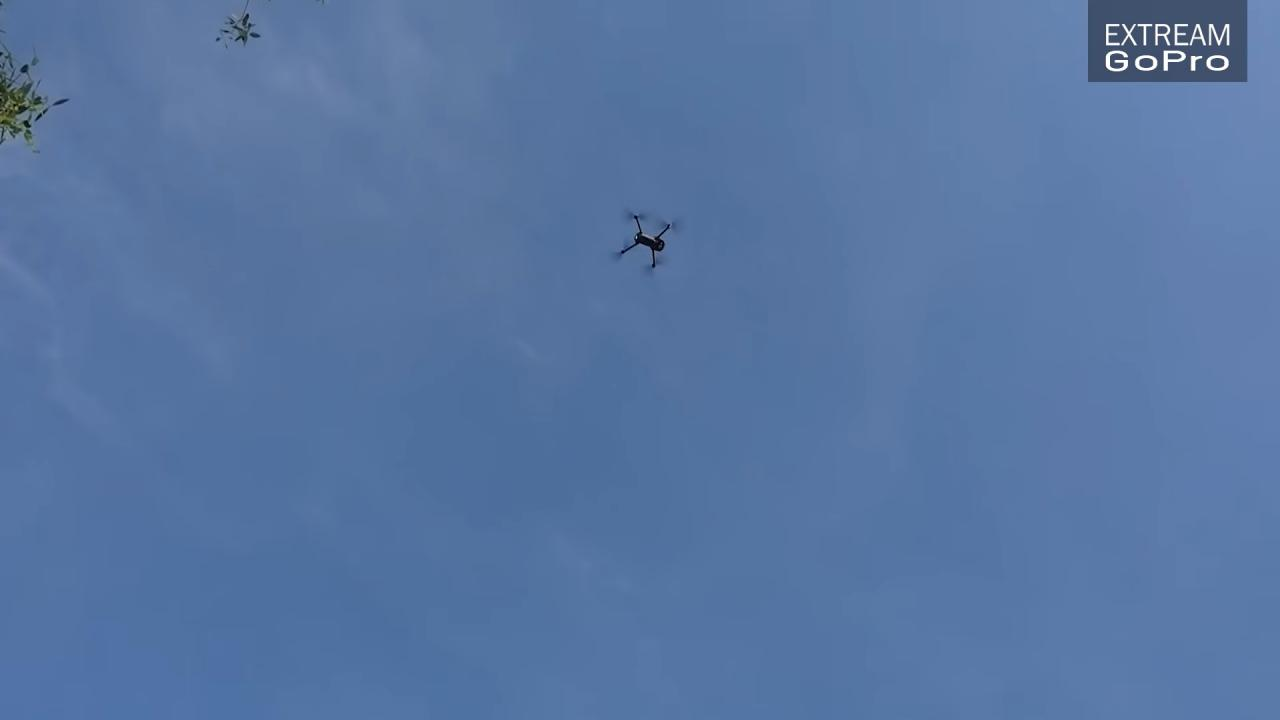Drone: (605, 203, 688, 280)
